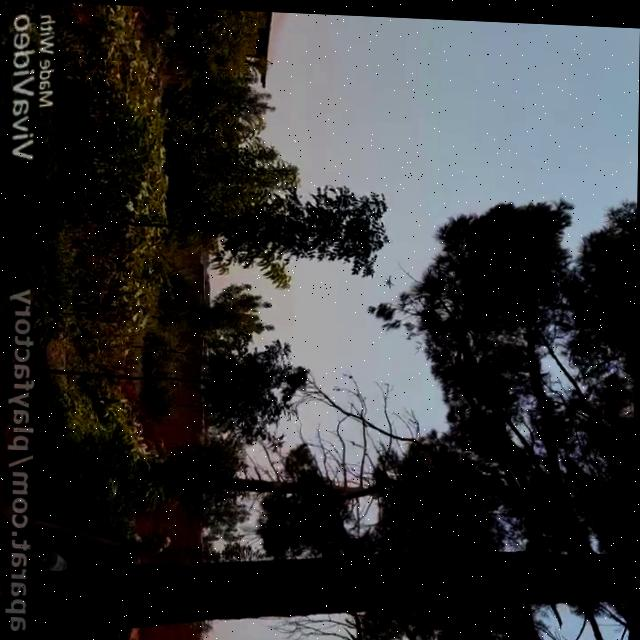drone: (382, 268, 400, 290)
